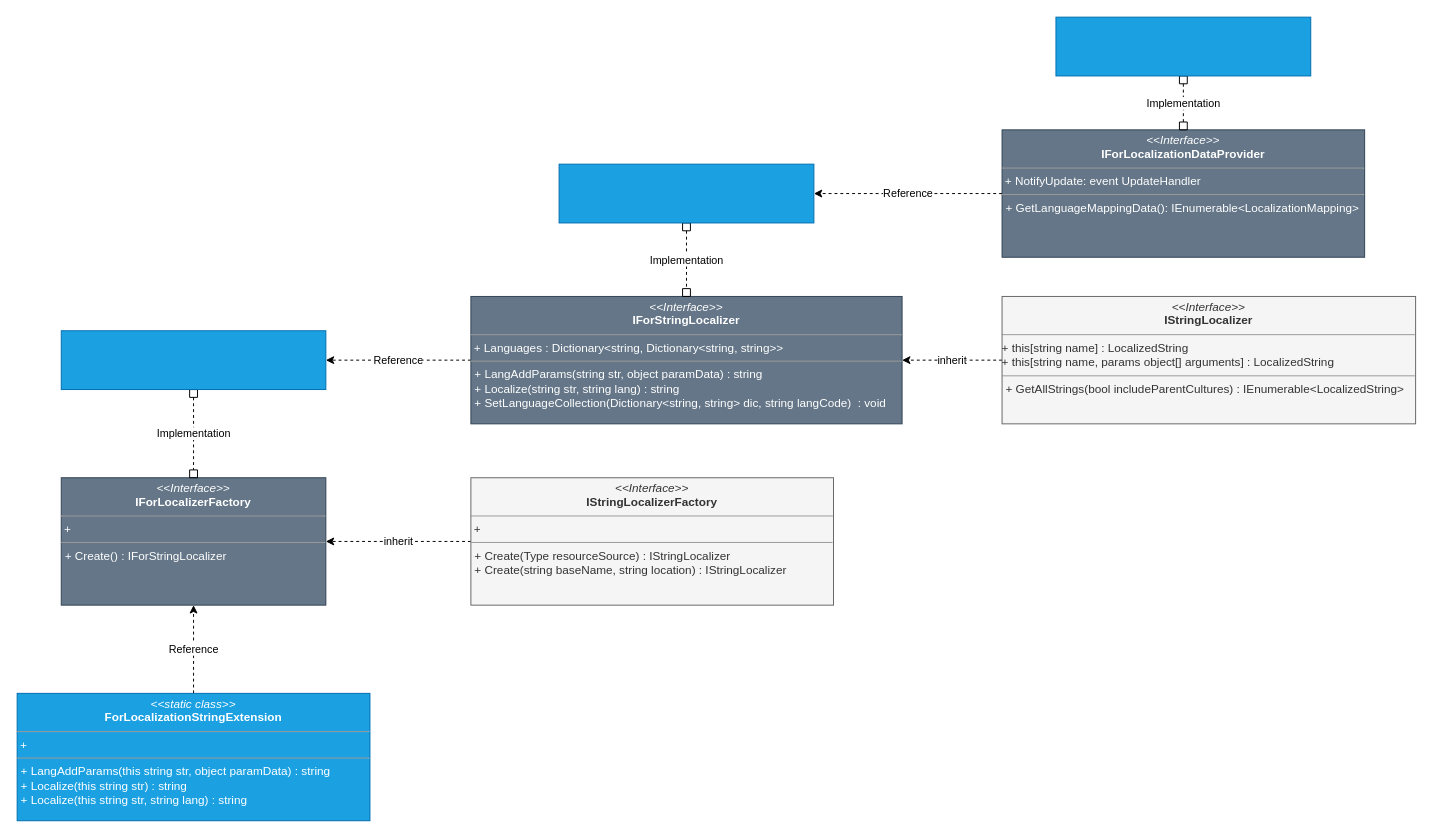
Image size: 1433x838. Some labels were removed from this diagram. The shapes that lost their labels are listed below. From the top down, each one's centre as x and y in pixels, then its label:
[1183,46]: DefaultForLocalizationDataProvider : IForLocalizationDataProvider
[686,193]: ForStringLocalizer : IForStringLocalizer
[193,360]: ForLocalizerFactory : IForLocalizerFactory
